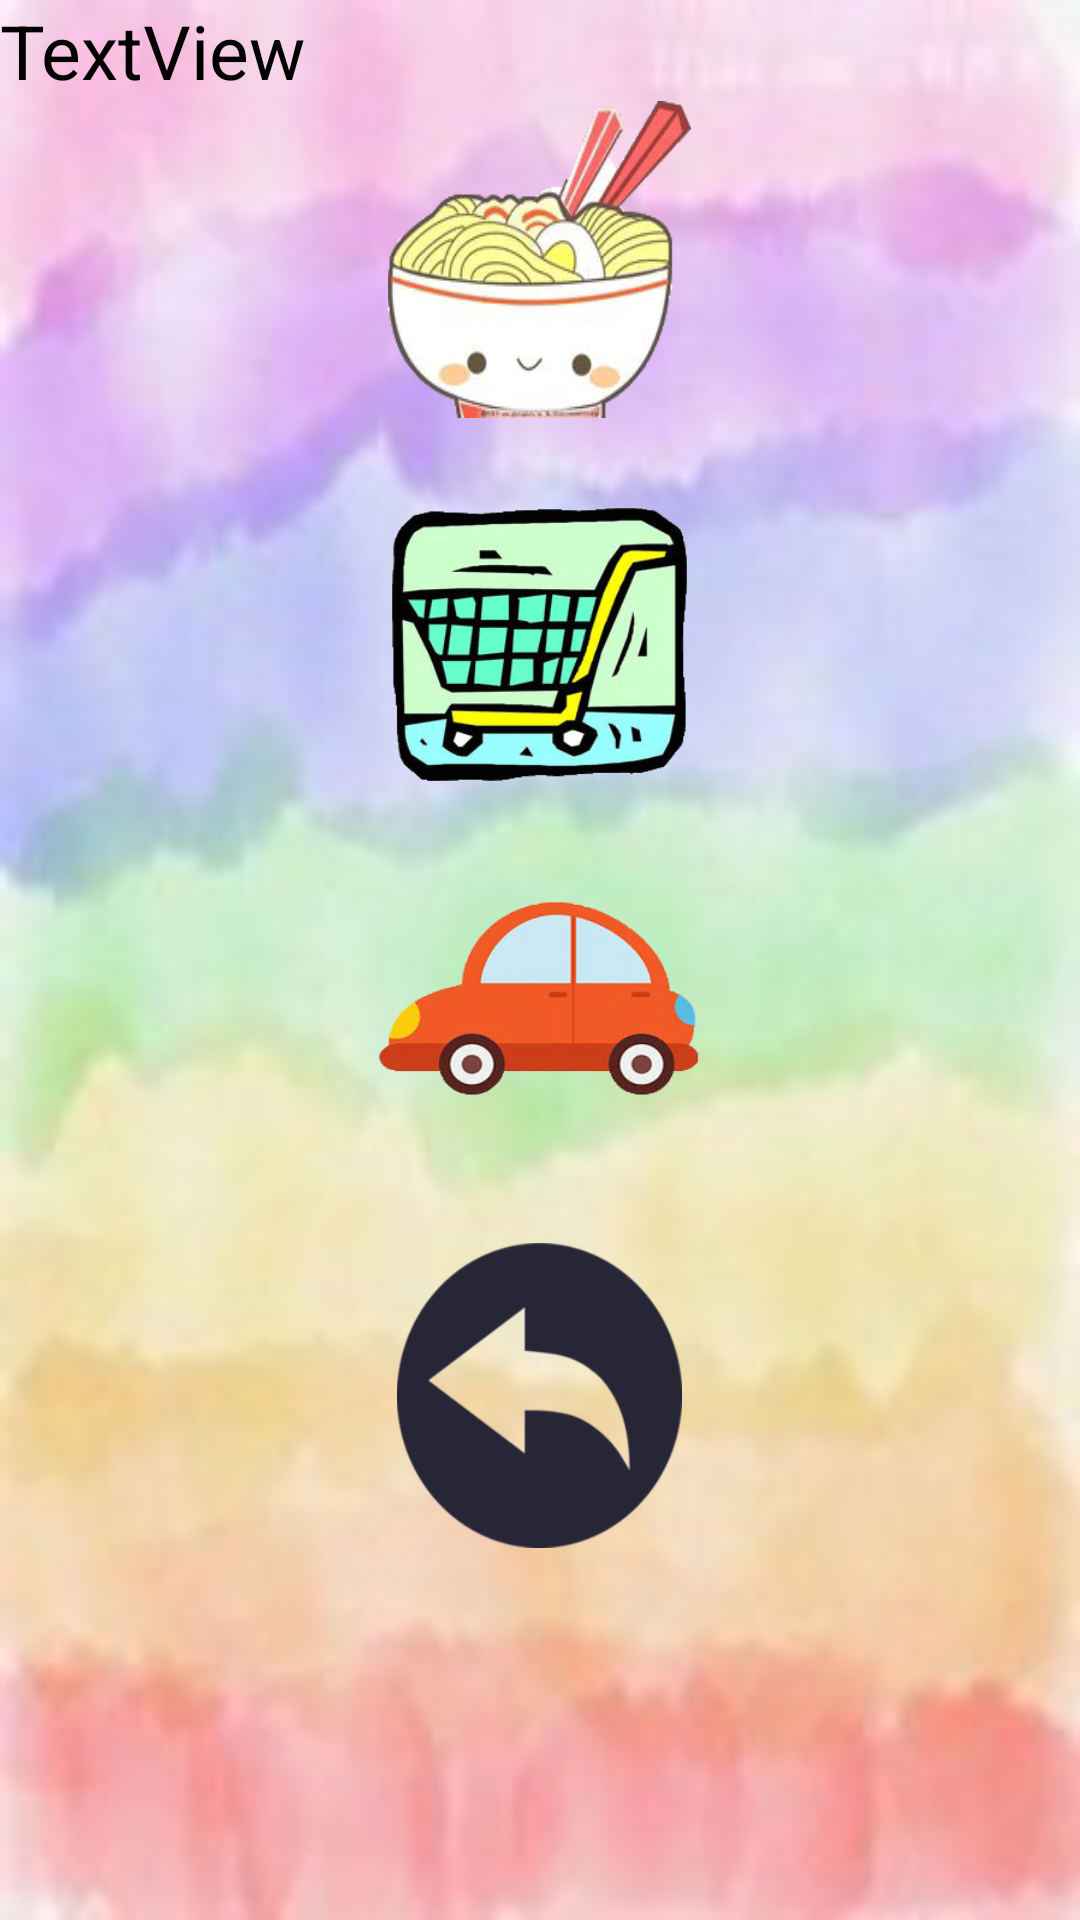

Icon click points for this 1080px x 1920px phone screenshot, format (x=x, y=y):
food: (x=539, y=259)
